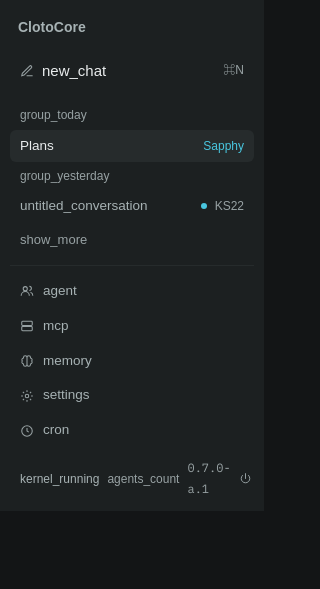
Test: the sidebar's conversations › draws the day groups the mock draws, and keeps older threads behind show more
The width and height of the screenshot is (320, 589).
Expected: the text "group_today" is shown, [20,108,87,122]
Expected: the text "group_yesterday" is shown, [20,169,109,183]
Click the button "show_more": [54, 240] box [10,223,97,257]
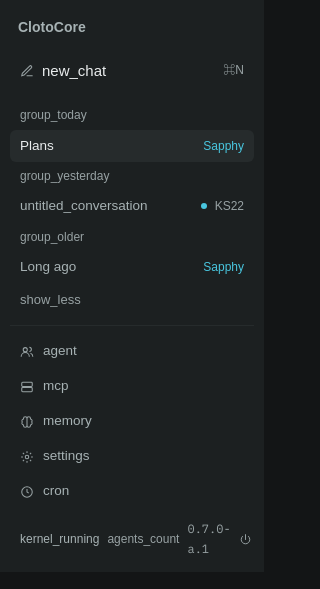
Expected: the text "group_older" is shown, [20,230,84,244]
Expected: the button titled "Long ago" is shown, [10,251,254,283]
